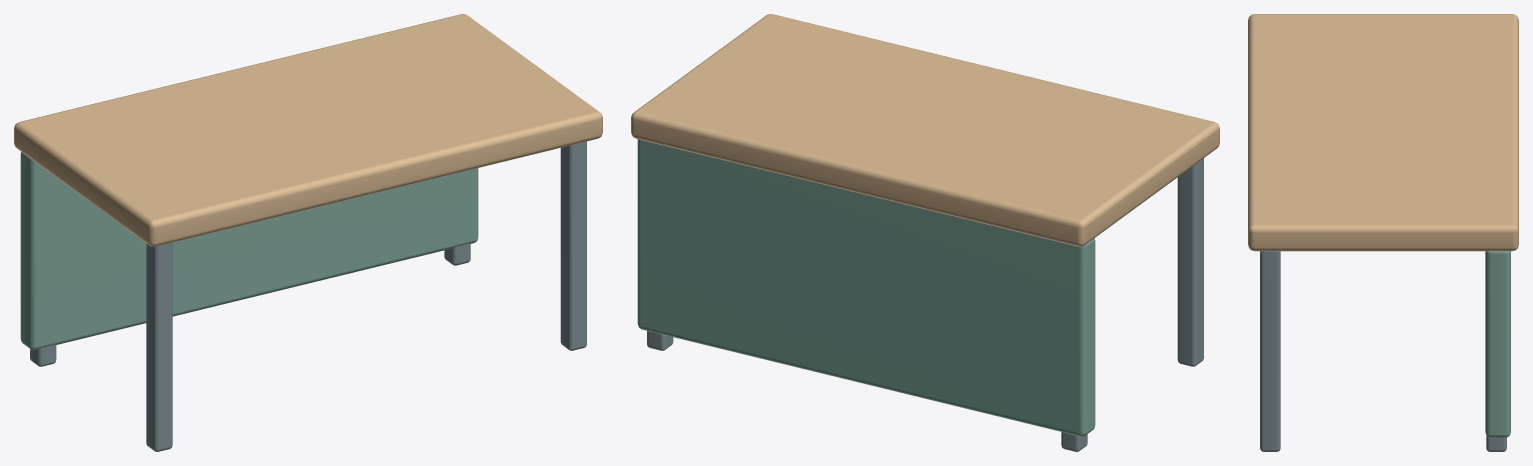
File: alpha_counter.glb
3 views of the same model, side by side, from view 1: azimuth 30°, elevation 25°; view 2: azimuth 150°, elevation 25°; view 3: azimuth 270°, elevation 25° (orthographic). The views are drawn at different scales.
Parts seen in each view (by area): view 1: Alpha_lightwood, Alpha_sage, Alpha_metal; view 2: Alpha_sage, Alpha_lightwood, Alpha_metal; view 3: Alpha_lightwood, Alpha_sage, Alpha_metal.
Part boxes in pixels (x1,y1,x2,y2): Alpha_lightwood: (14, 14, 602, 246); Alpha_sage: (20, 152, 478, 350); Alpha_metal: (30, 141, 586, 451); Alpha_sage: (637, 139, 1095, 436); Alpha_lightwood: (631, 14, 1219, 246); Alpha_metal: (647, 158, 1203, 451); Alpha_lightwood: (1248, 14, 1518, 251); Alpha_sage: (1485, 251, 1510, 437); Alpha_metal: (1260, 251, 1506, 451).
Size of the model in its own units: 1.6 by 0.8 by 0.85.
